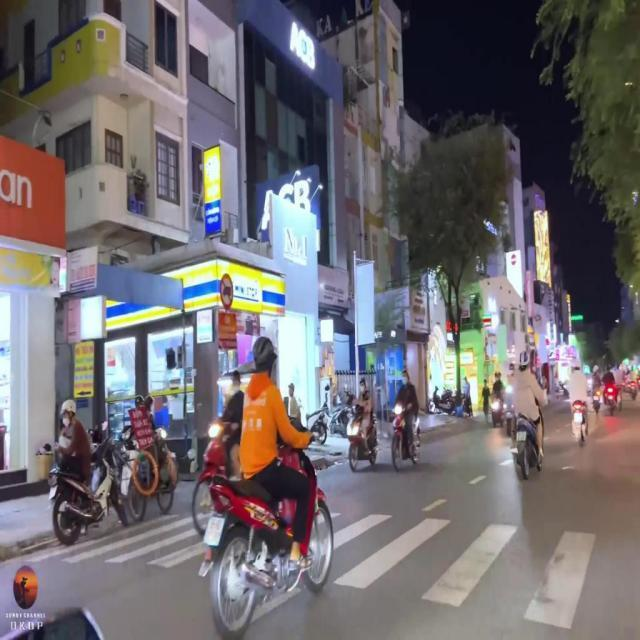106-cam-oto-tai: (219, 274, 233, 310)
